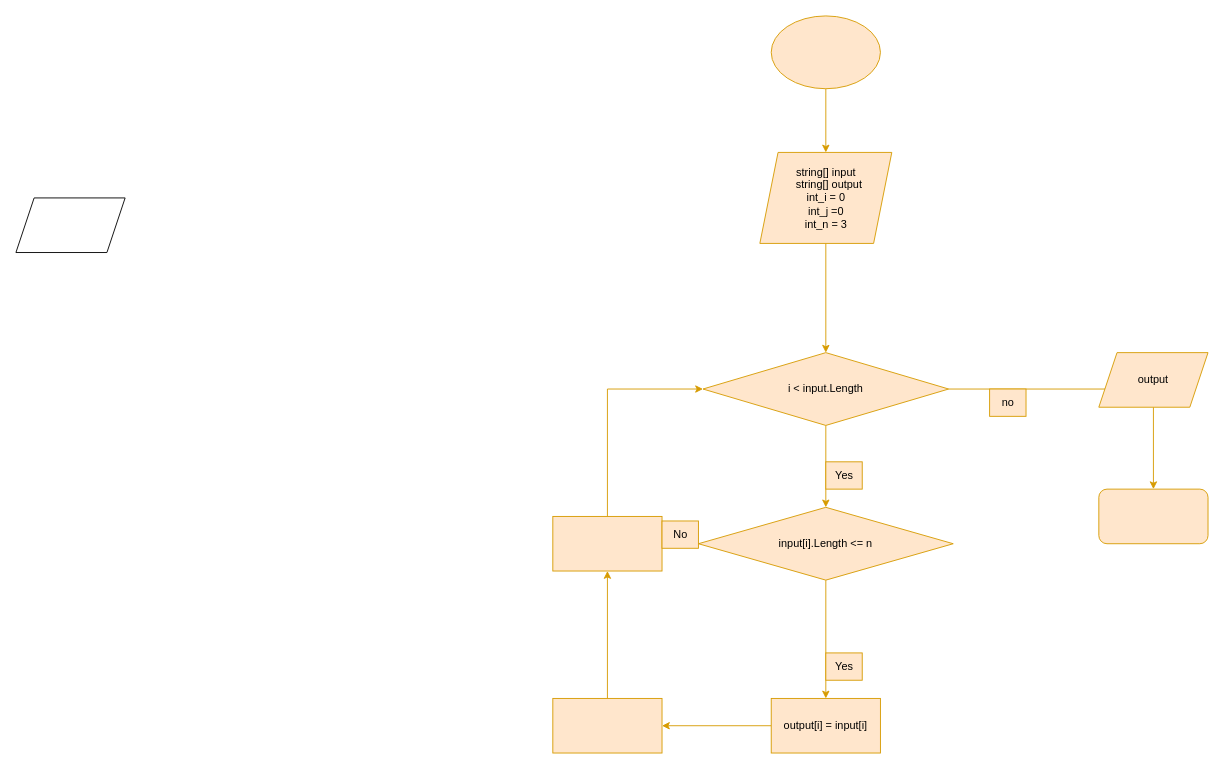
The diagram is 1224 pixels wide and 769 high, and some of its shapes have lost their labels. Here are the shapes that lost their labels. From the top down, the box of each, then its label:
(770, 15, 880, 89): start
(1098, 488, 1208, 544): final
(552, 516, 662, 571): i++
(552, 698, 662, 753): j++
